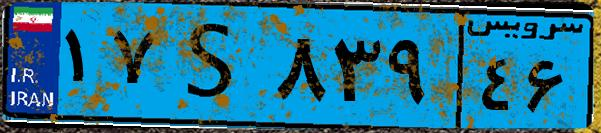1: (57, 26, 110, 100)
3: (330, 28, 385, 110)
4: (475, 38, 525, 113)
6: (525, 38, 570, 115)
7: (110, 28, 158, 98)
8: (270, 28, 330, 110)
9: (385, 28, 445, 110)
S: (158, 12, 270, 120)
